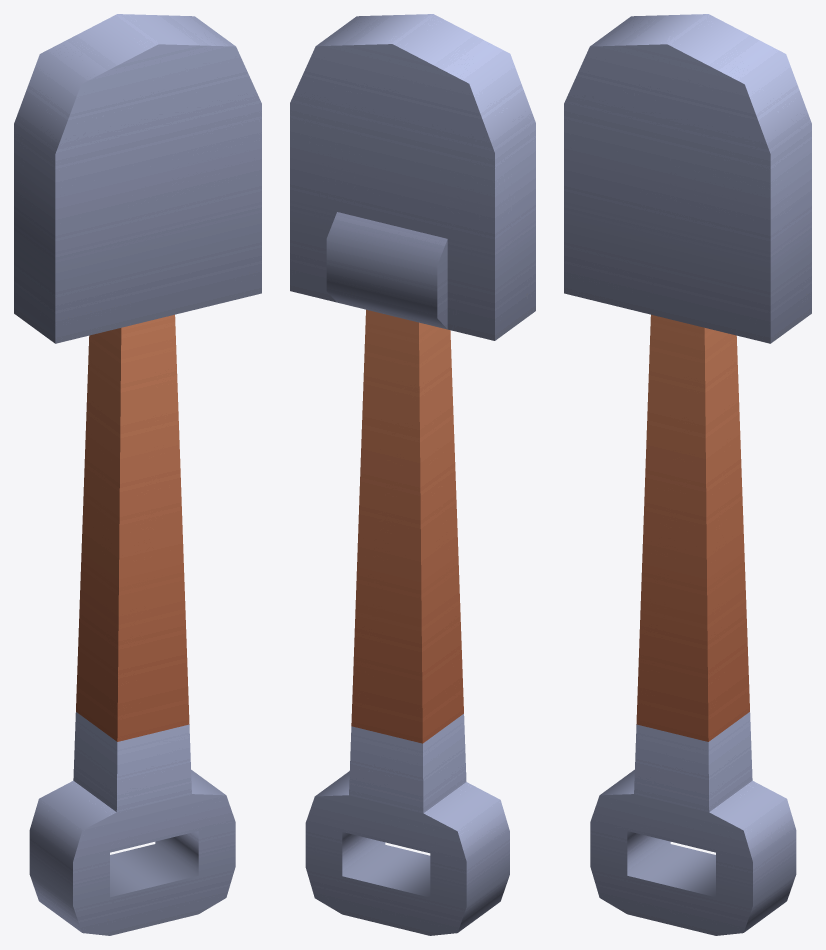
Rendered from tool-shovel.glb.
3 renders of one model, left to right at view 1: azimuth 30°, elevation 25°; view 2: azimuth 150°, elevation 25°; view 3: azimuth 330°, elevation 25°, orthographic.
Visible parts, largest first — view 1: tool-shovel; view 2: tool-shovel; view 3: tool-shovel.
Boxes of the visible parts, x1,y1,x2,y2 form: tool-shovel: (14, 14, 261, 935); tool-shovel: (290, 14, 535, 935); tool-shovel: (564, 14, 811, 935).
Size of the model in its own units: 0.0709 by 0.29 by 0.0309.
Materials: 1 (1 with a texture image).
